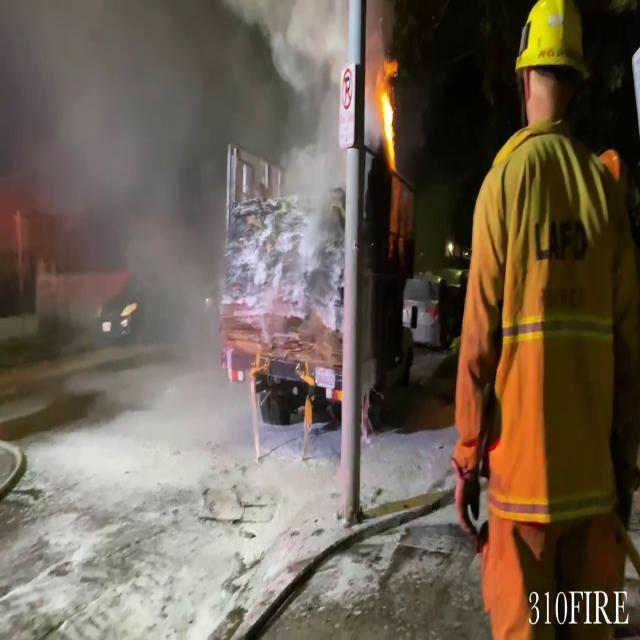Fire: (374, 58, 400, 175)
Smoke: (1, 0, 343, 297)
